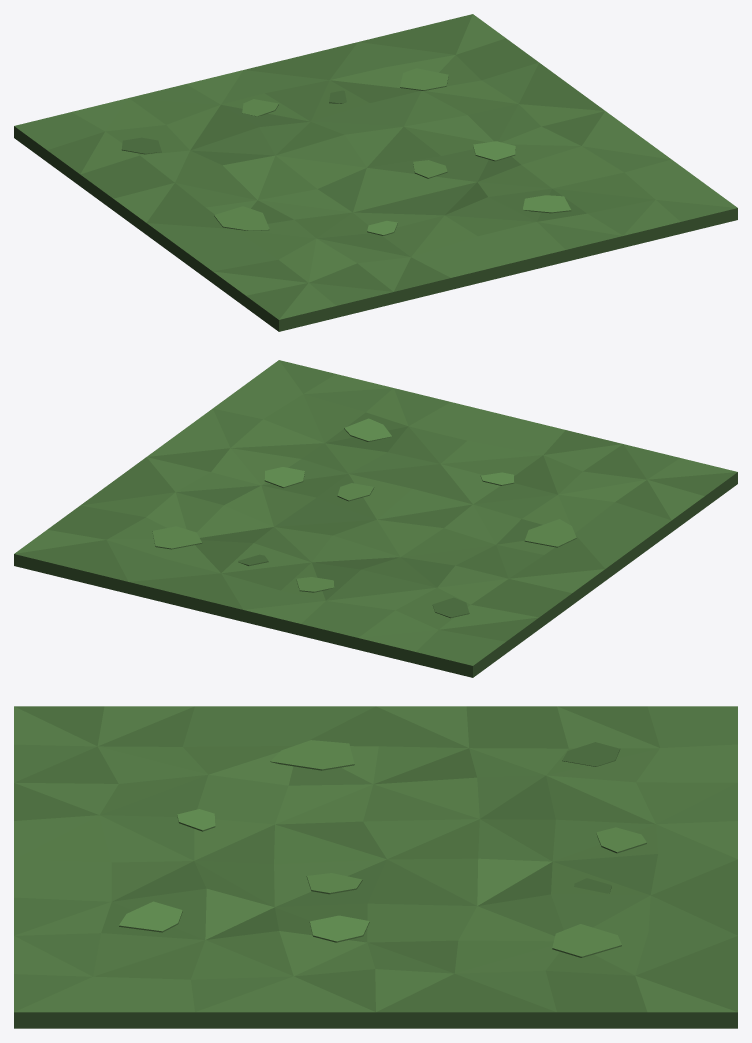
File: ground_grass_b.obj
3 views of the same model, one above another, from view 1: azimuth 30°, elevation 25°; view 2: azimuth 150°, elevation 25°; view 3: azimuth 270°, elevation 25° (orthographic). The views are drawn at different scales.
Size of the model in its own units: 4 by 0.1337 by 4.
